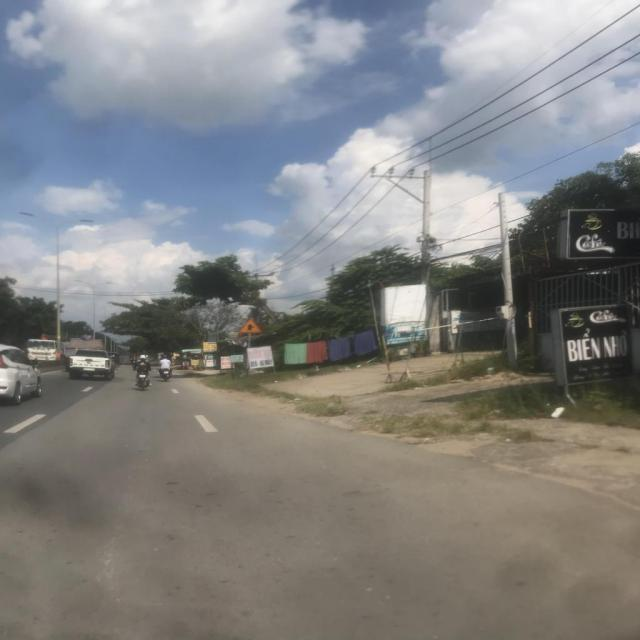giao_nhau_voi_duong_khong_uu_tien: (235, 317, 263, 333)
